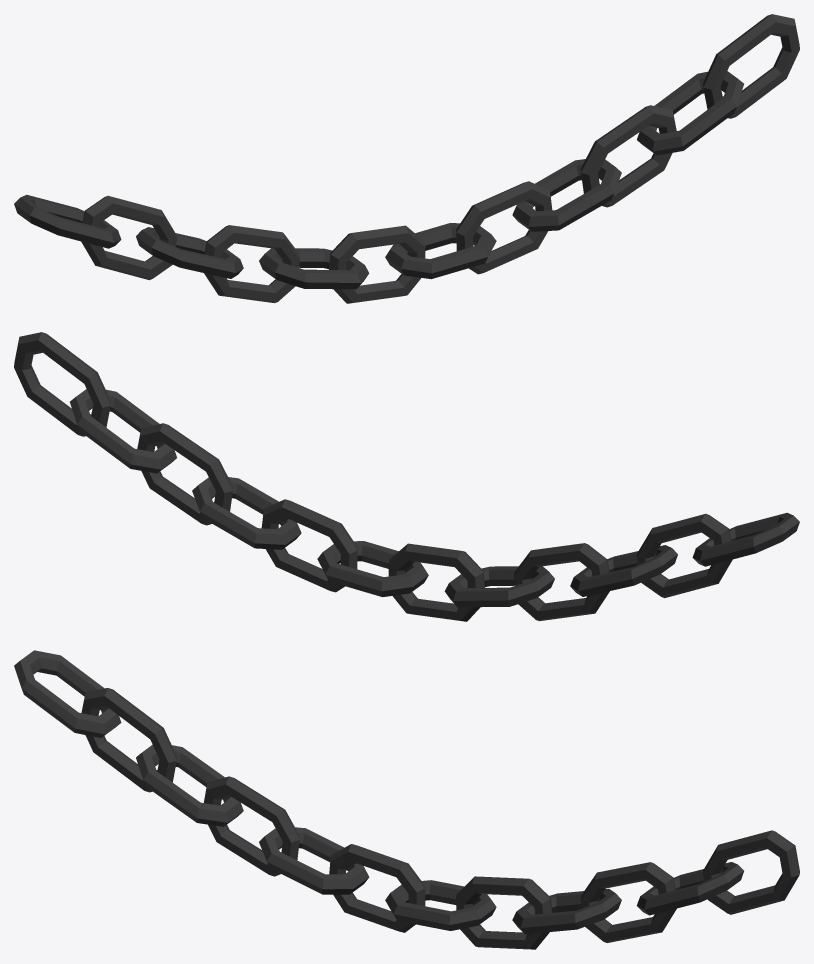
The model's file is mdl_poland_chain.gltf.
The picture shows the model from 3 angles, top to bottom: view 1: azimuth 30°, elevation 25°; view 2: azimuth 150°, elevation 25°; view 3: azimuth 330°, elevation 25°; orthographic projection.
Parts seen in each view (by area): view 1: Torus; view 2: Torus; view 3: Torus.
Part boxes in pixels (x1=…): Torus: x1=14, y1=14, x2=799, y2=303; Torus: x1=14, y1=332, x2=799, y2=621; Torus: x1=14, y1=650, x2=799, y2=949.
Bounding box in the file's own units: 1.4 × 0.33 × 0.1205.
1 material, 1 textured.
